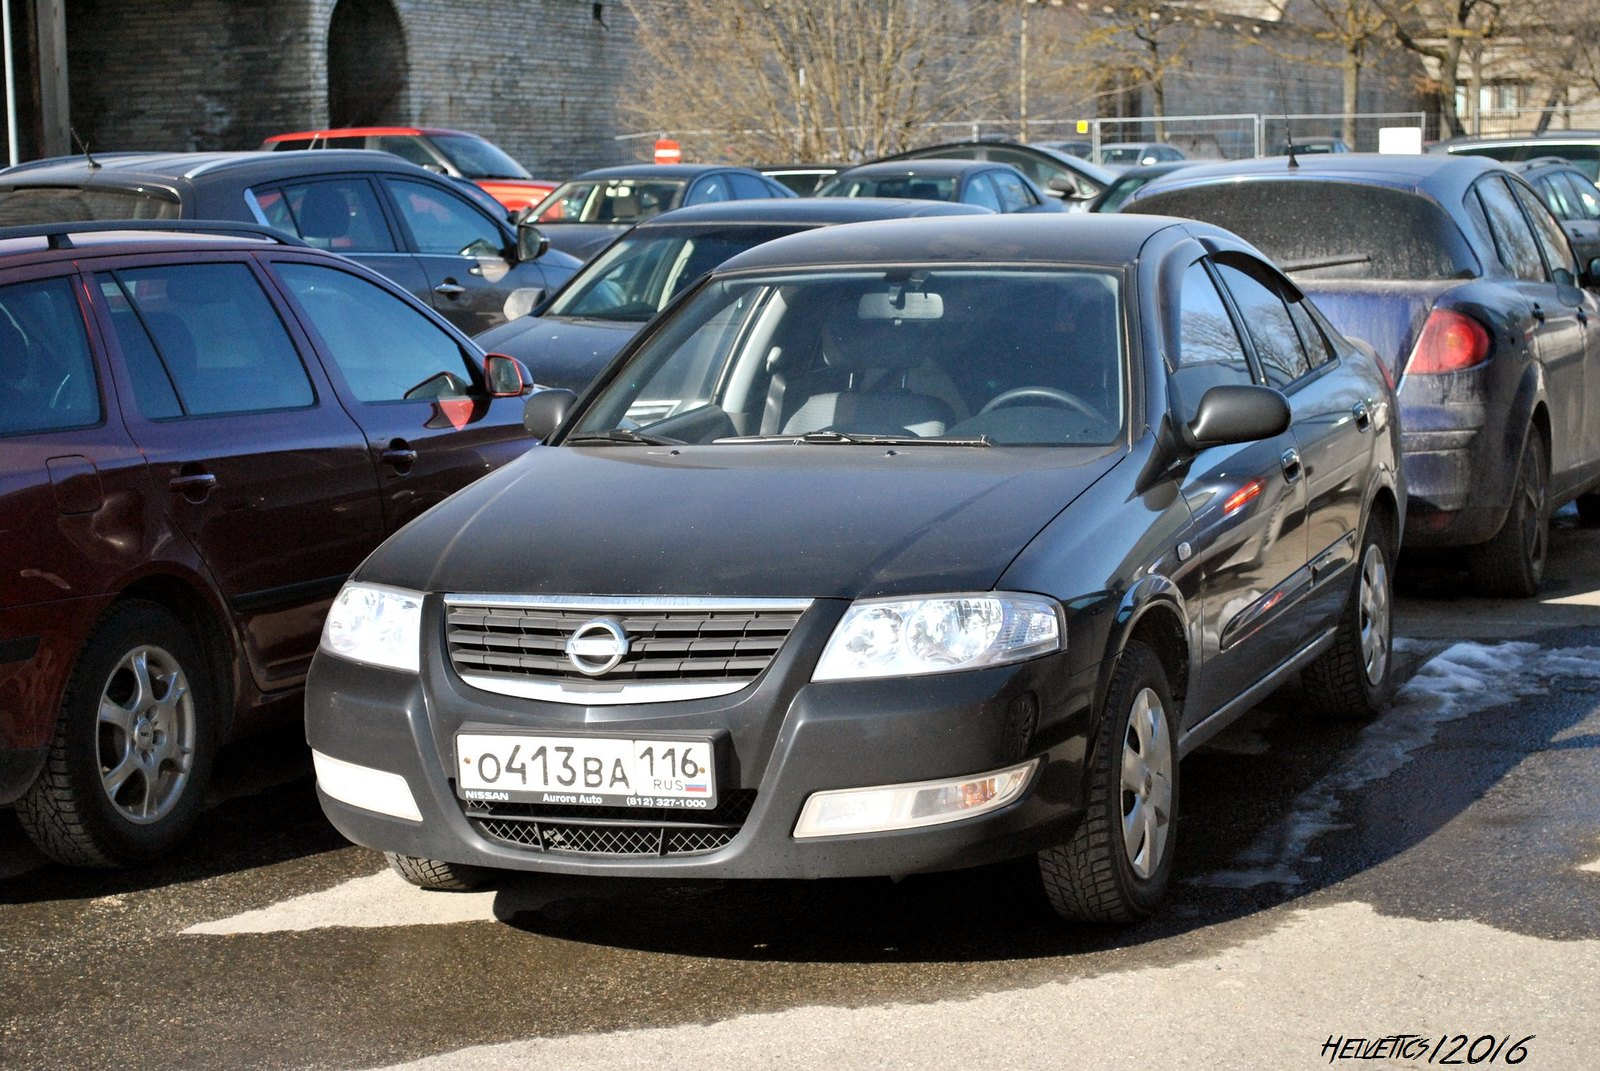car_front: (304, 530, 1057, 879)
plate: (455, 728, 711, 802)
